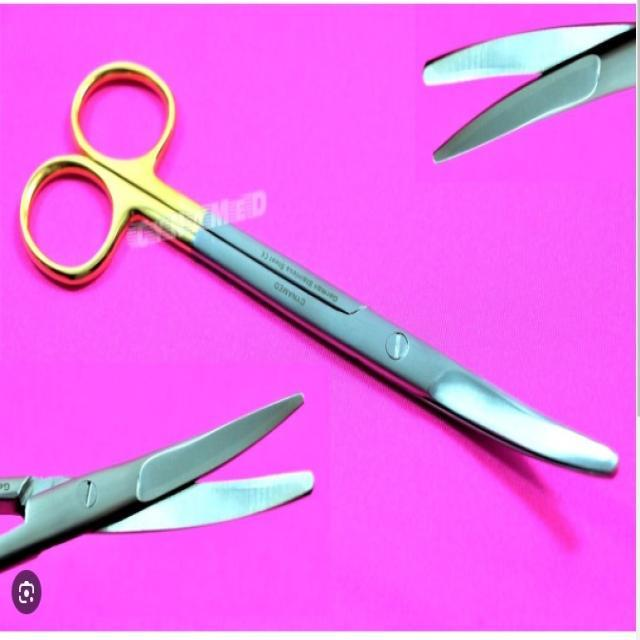Curved Mayo: (13, 46, 624, 492)
